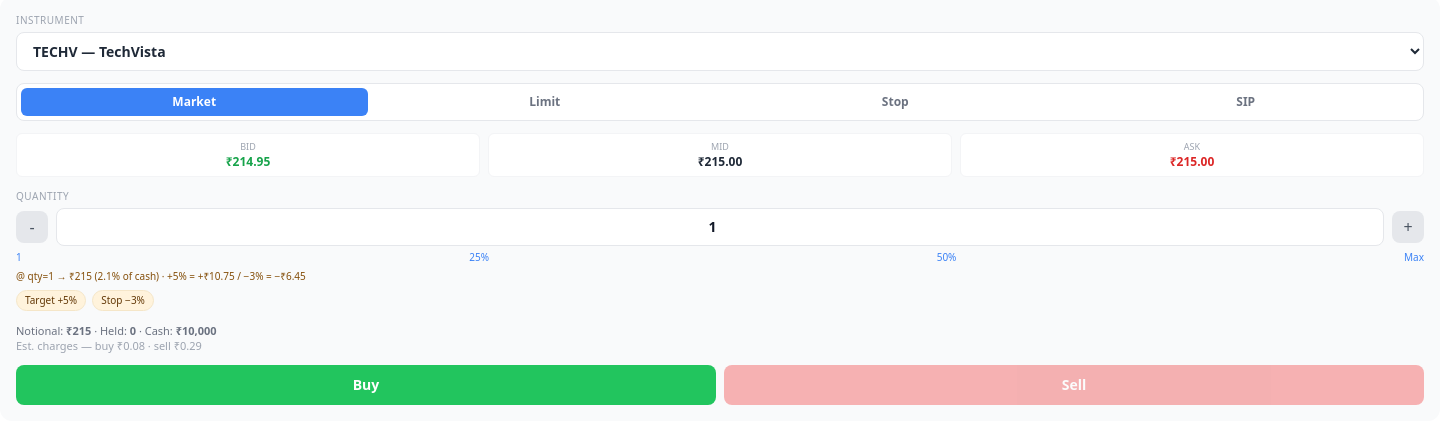
Scenario: OrderTicket v2 additions › shows position sizer line with total cost and risk %
Replace the text in the number field with test id "order-qty" with "10" at (720, 226), box [56, 208, 1384, 246]
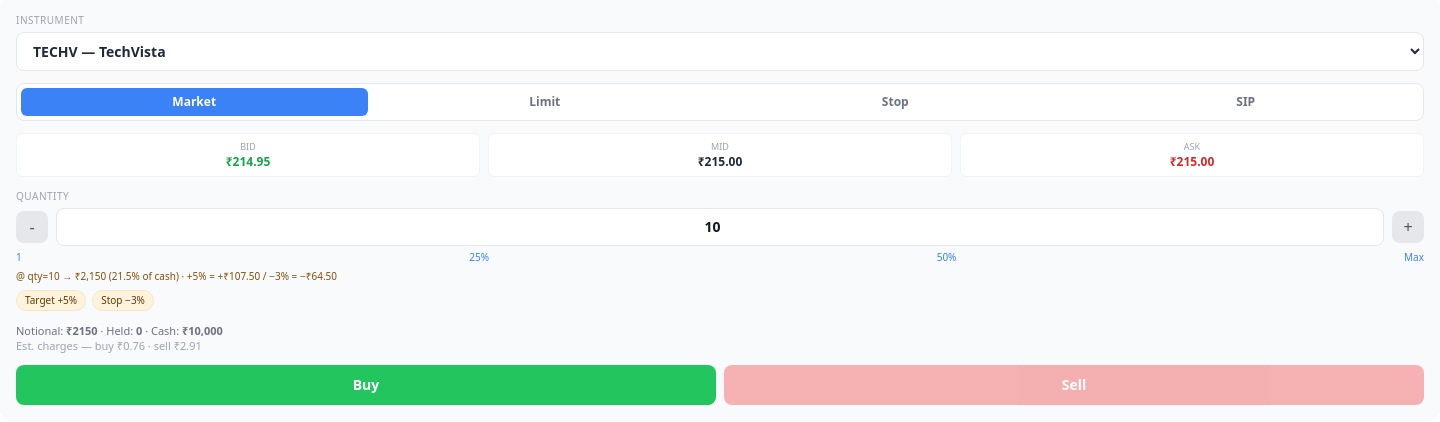
Result: the text with test id "order-sizer" shows "₹2,150" at [16, 268, 337, 282]
Result: the text with test id "order-sizer" shows "21.5%" at [16, 268, 337, 282]
